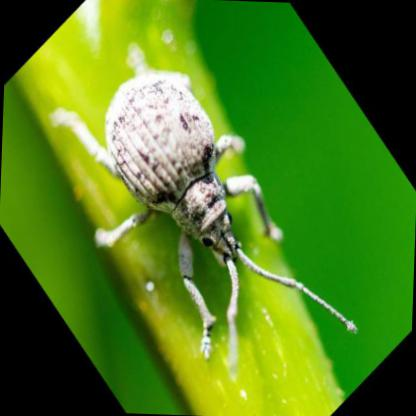ash weevil: (47, 46, 356, 369)
